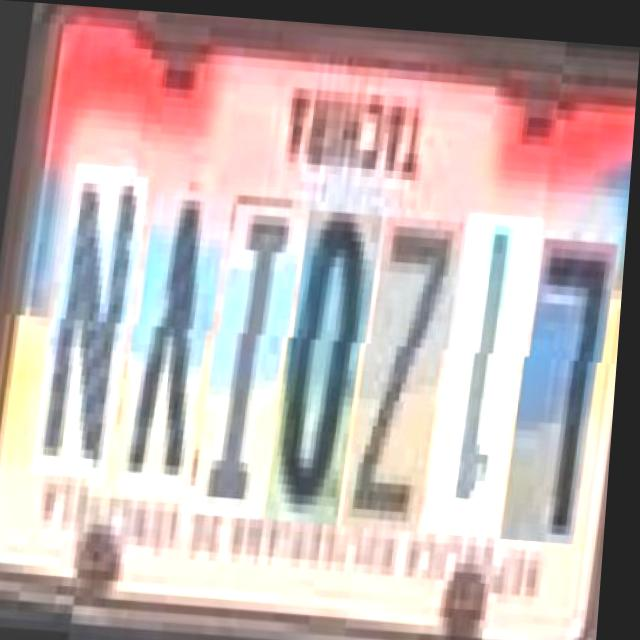1: (430, 205, 535, 522)
i: (197, 199, 298, 516)
l: (507, 219, 612, 527)
n: (36, 171, 141, 488)
o: (269, 203, 375, 520)
v: (117, 185, 222, 493)
z: (347, 208, 457, 525)
